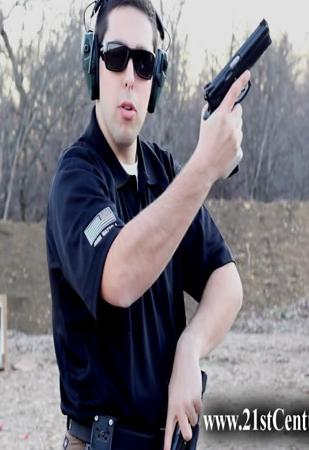pistol: (199, 17, 275, 179)
